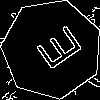E: (27, 24, 84, 78)
